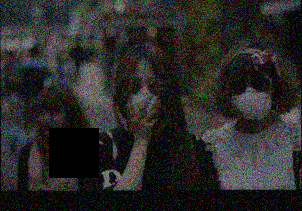with_mask: (229, 71, 273, 121), (123, 73, 163, 120)
without_mask: (38, 106, 66, 137)
